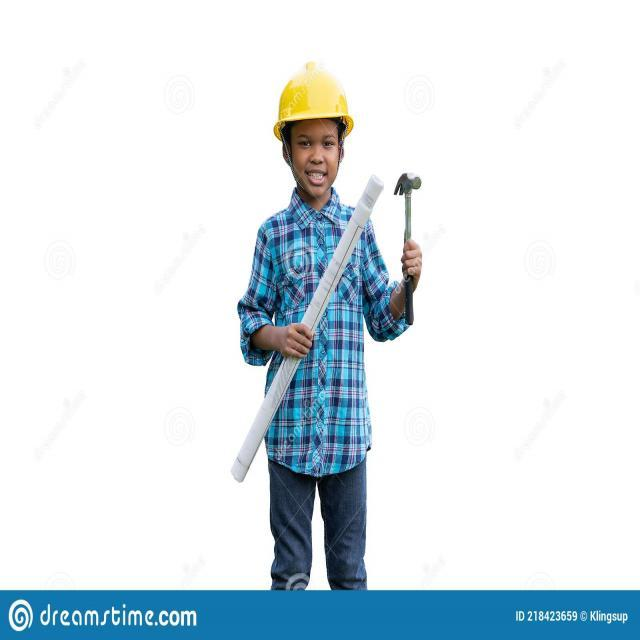hammer: (388, 146, 432, 344)
